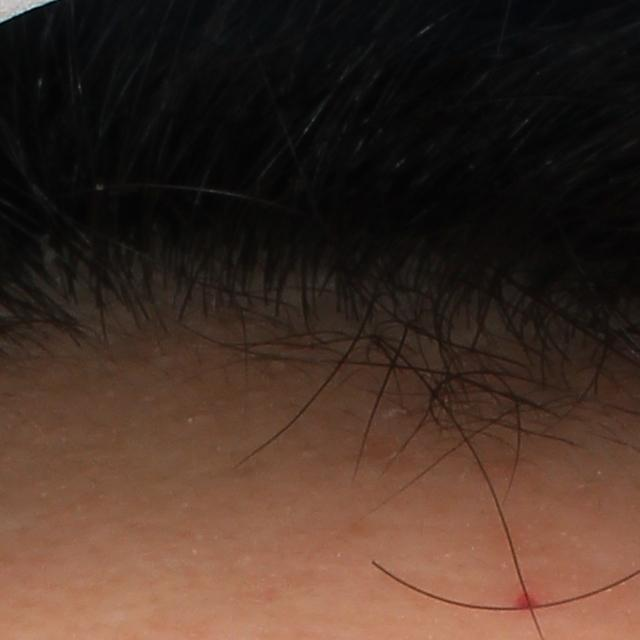other: (512, 584, 546, 618)
